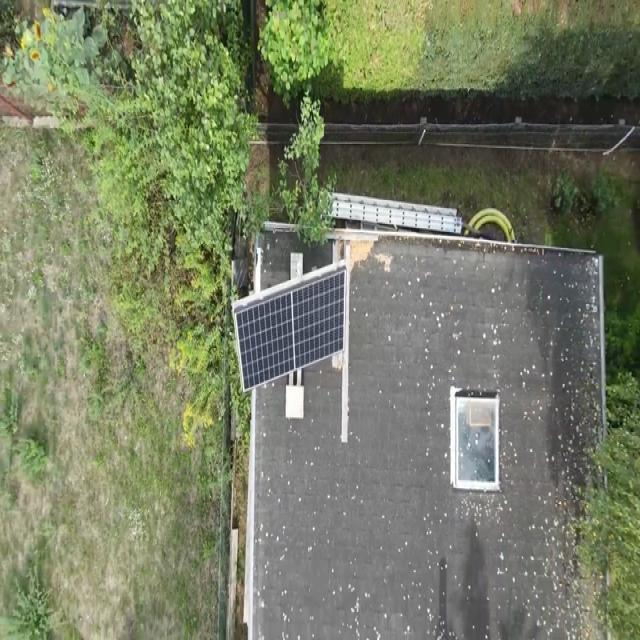Normal Solar Panel: (237, 273, 345, 391)
